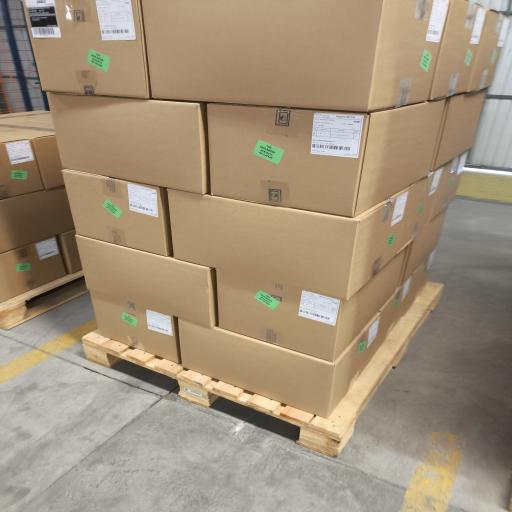pallet: (83, 282, 442, 455), (0, 271, 88, 329)
